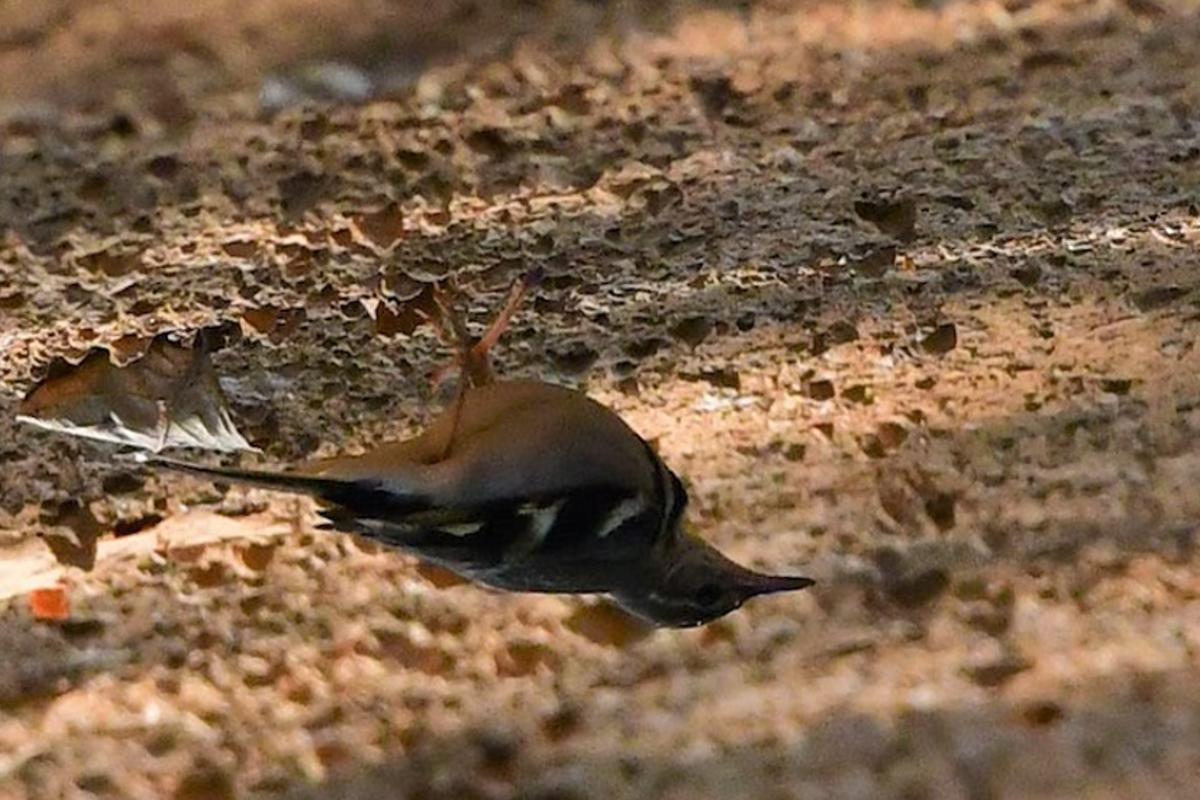wagtail: (178, 294, 794, 638)
